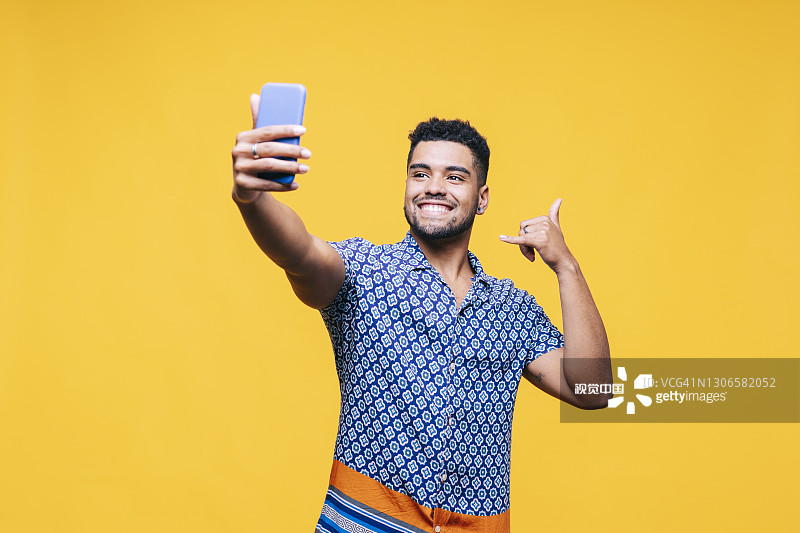no-phone: (495, 189, 591, 276)
taking photos: (214, 71, 321, 219)
